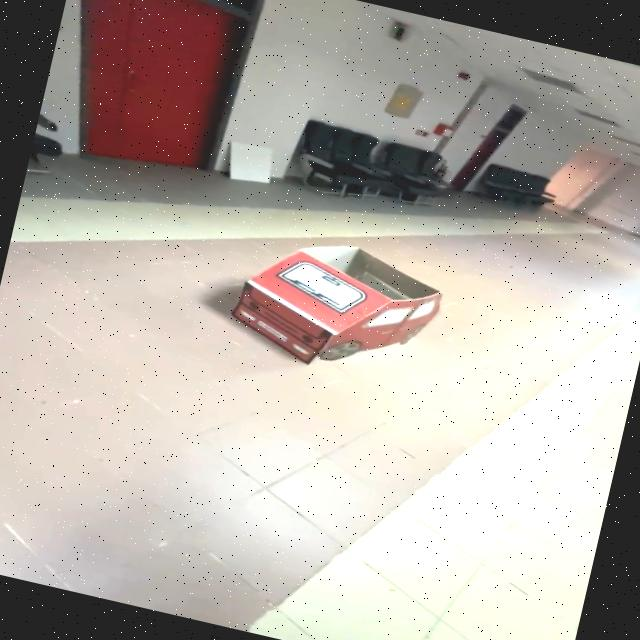red_car: (198, 207, 486, 409)
